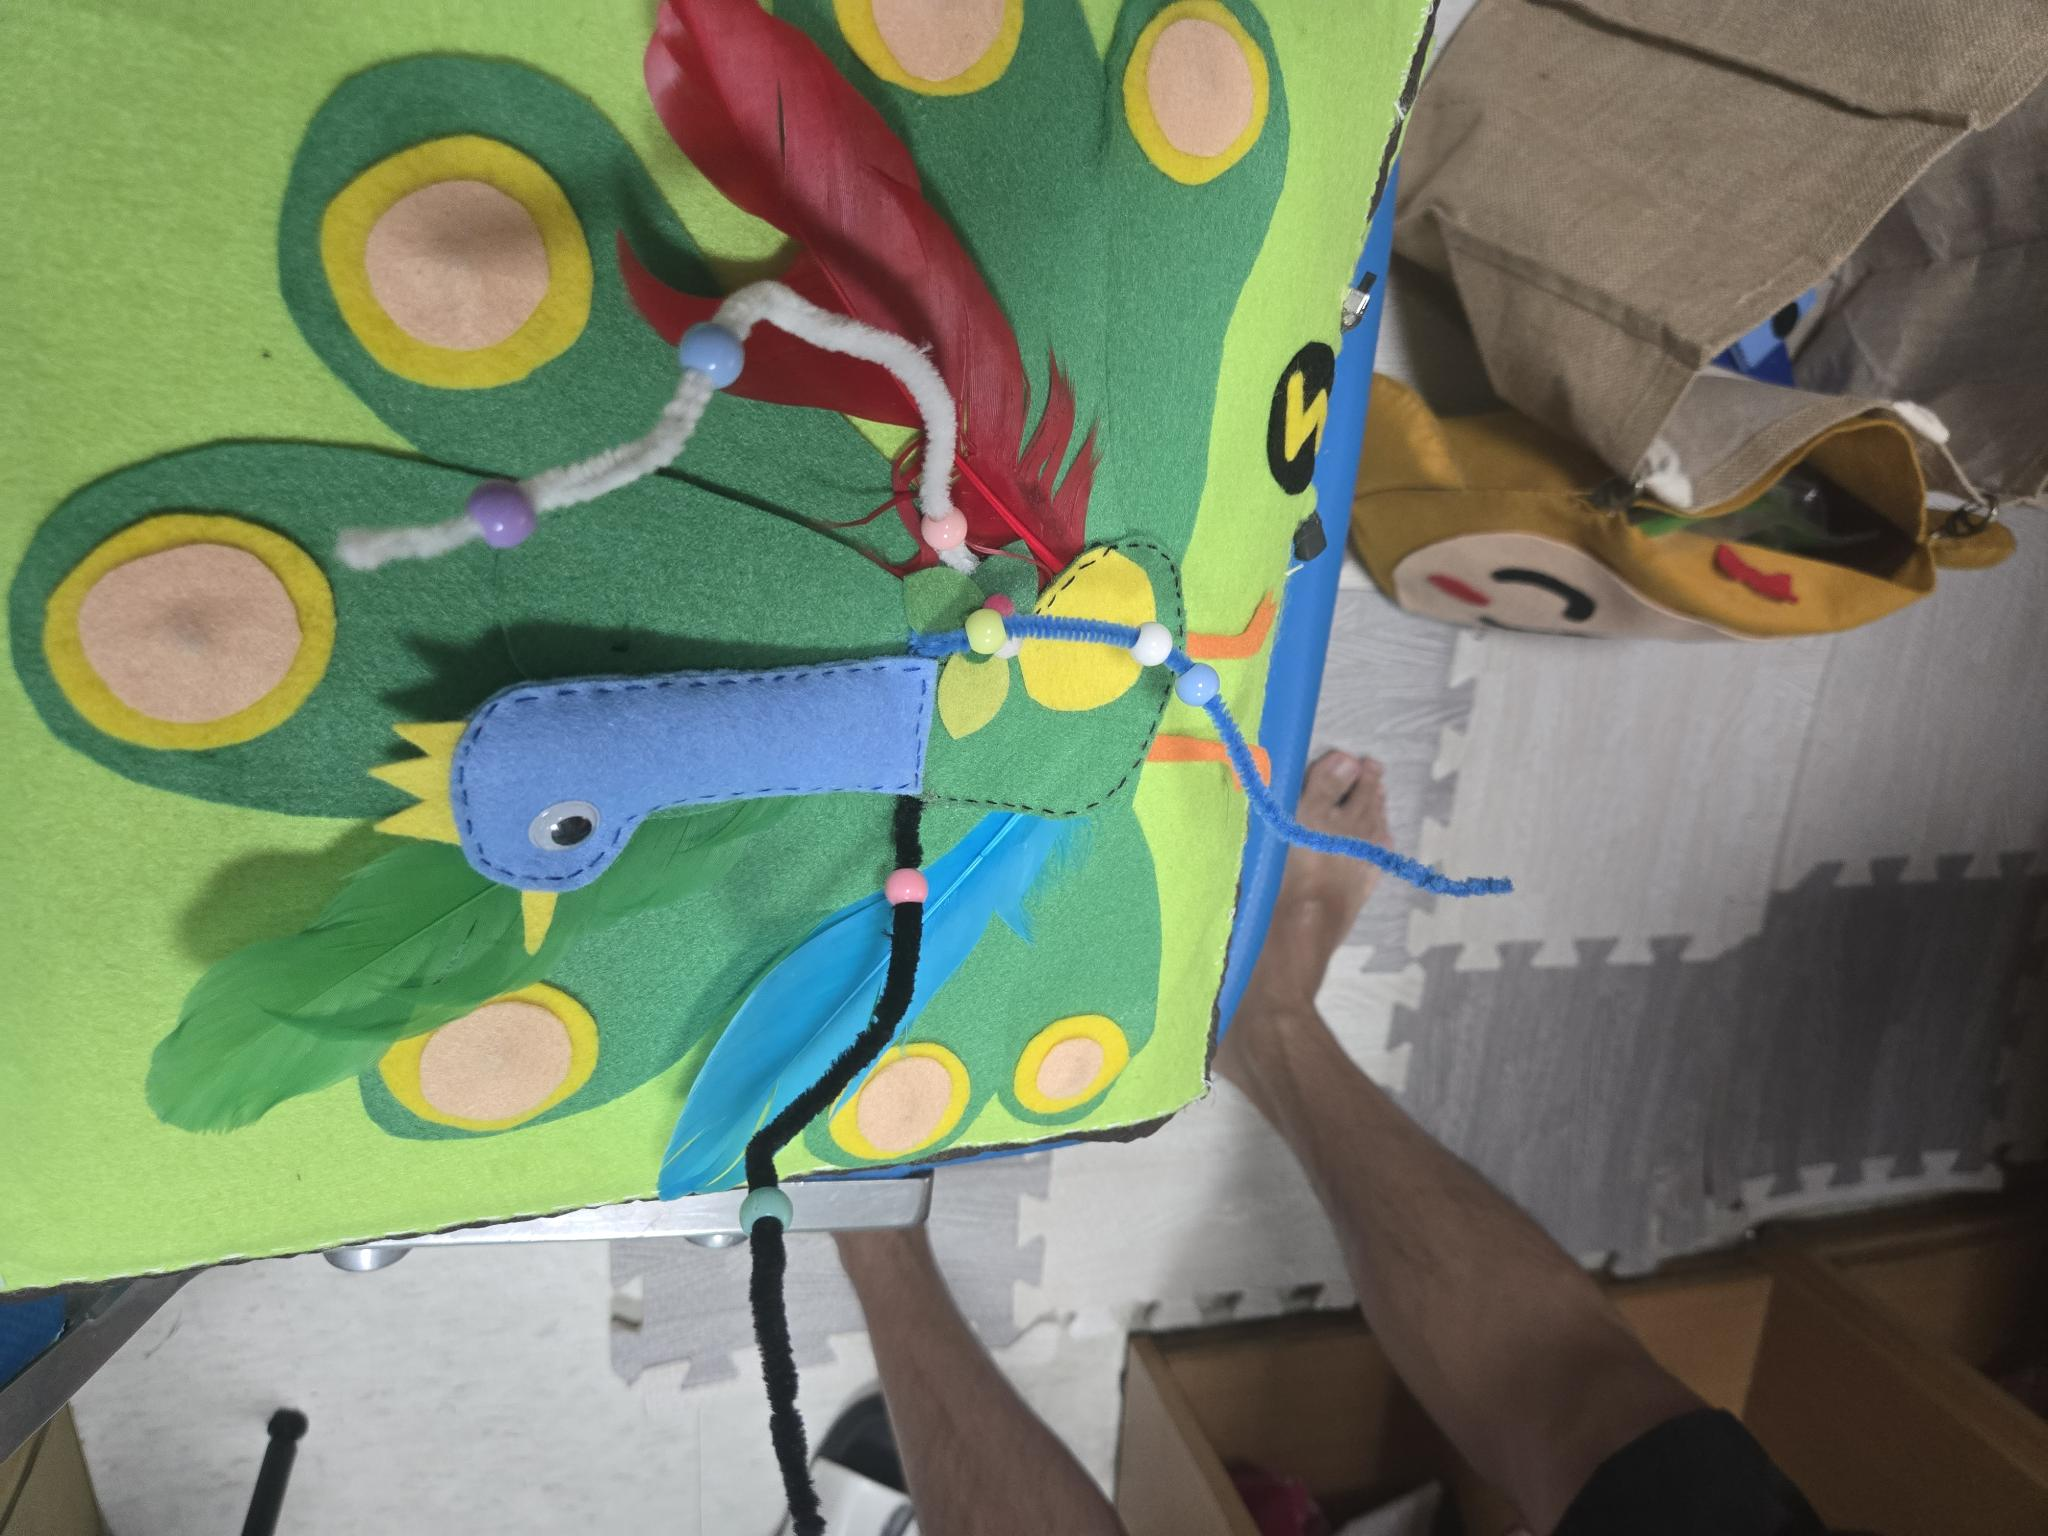bead: (461, 466, 540, 552), (677, 321, 751, 392), (958, 600, 1013, 665), (1127, 618, 1179, 673), (918, 505, 968, 558), (1177, 668, 1214, 726), (884, 865, 929, 908)
